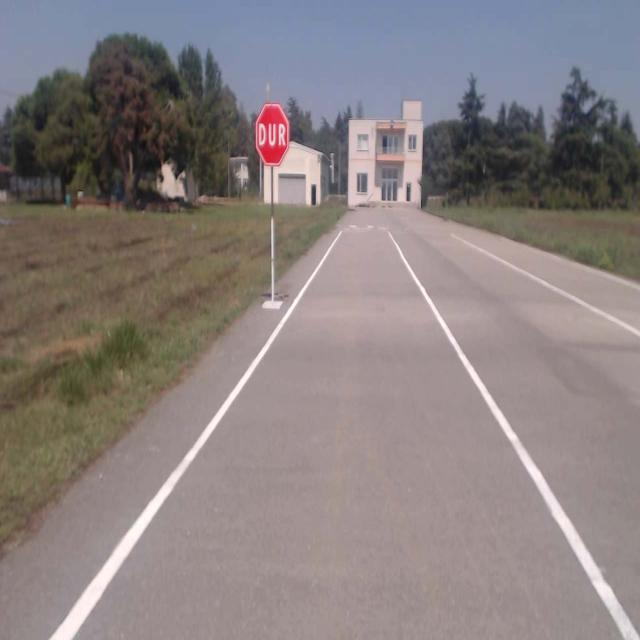dur: (254, 102, 292, 166)
